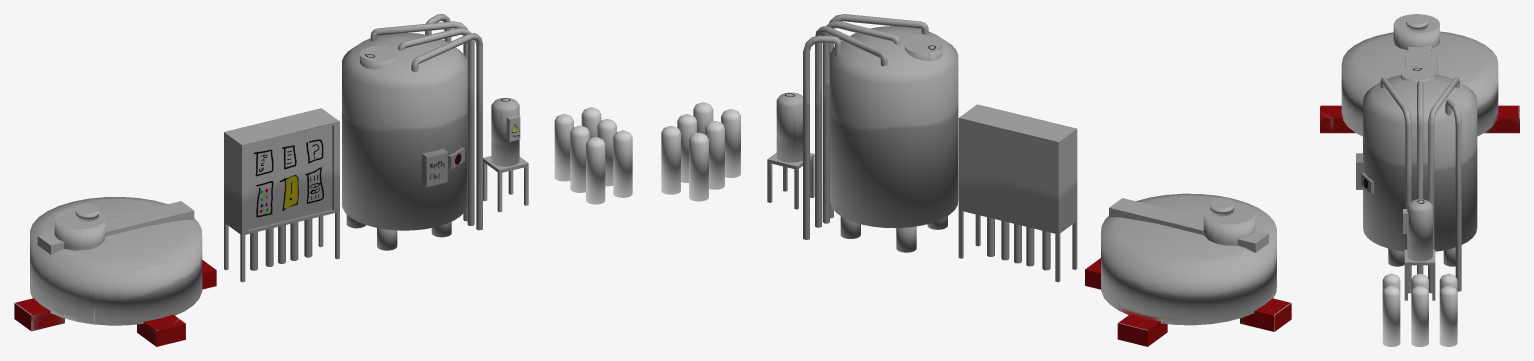
Rendered from breaking bad enviornments.fbx.
The picture shows the model from 3 angles, left to right: view 1: azimuth 30°, elevation 25°; view 2: azimuth 150°, elevation 25°; view 3: azimuth 270°, elevation 25°; orthographic projection. The views are drawn at different scales.
Visible parts, largest first — view 1: Plane, Plane.002, Cube, Plane.003, Plane.004; view 2: Plane, Plane.002, Cube, Plane.003, Plane.004; view 3: Plane, Plane.002, Plane.003, Plane.004, Cube.
Part boxes in pixels (x1,y1,x2,y2): Plane: (342, 14, 482, 250); Plane.002: (14, 197, 216, 346); Cube: (224, 108, 339, 282); Plane.003: (554, 107, 632, 204); Plane.004: (483, 98, 528, 212); Plane: (803, 14, 958, 252); Plane.002: (1085, 193, 1291, 346); Cube: (958, 104, 1077, 282); Plane.003: (661, 102, 740, 201); Plane.004: (767, 92, 814, 209); Plane: (1356, 66, 1477, 293); Plane.002: (1320, 14, 1519, 136); Plane.003: (1382, 273, 1457, 346); Plane.004: (1403, 199, 1435, 300); Cube: (1405, 56, 1437, 74).
Bounding box in the file's own units: 1087 × 349 × 350.
